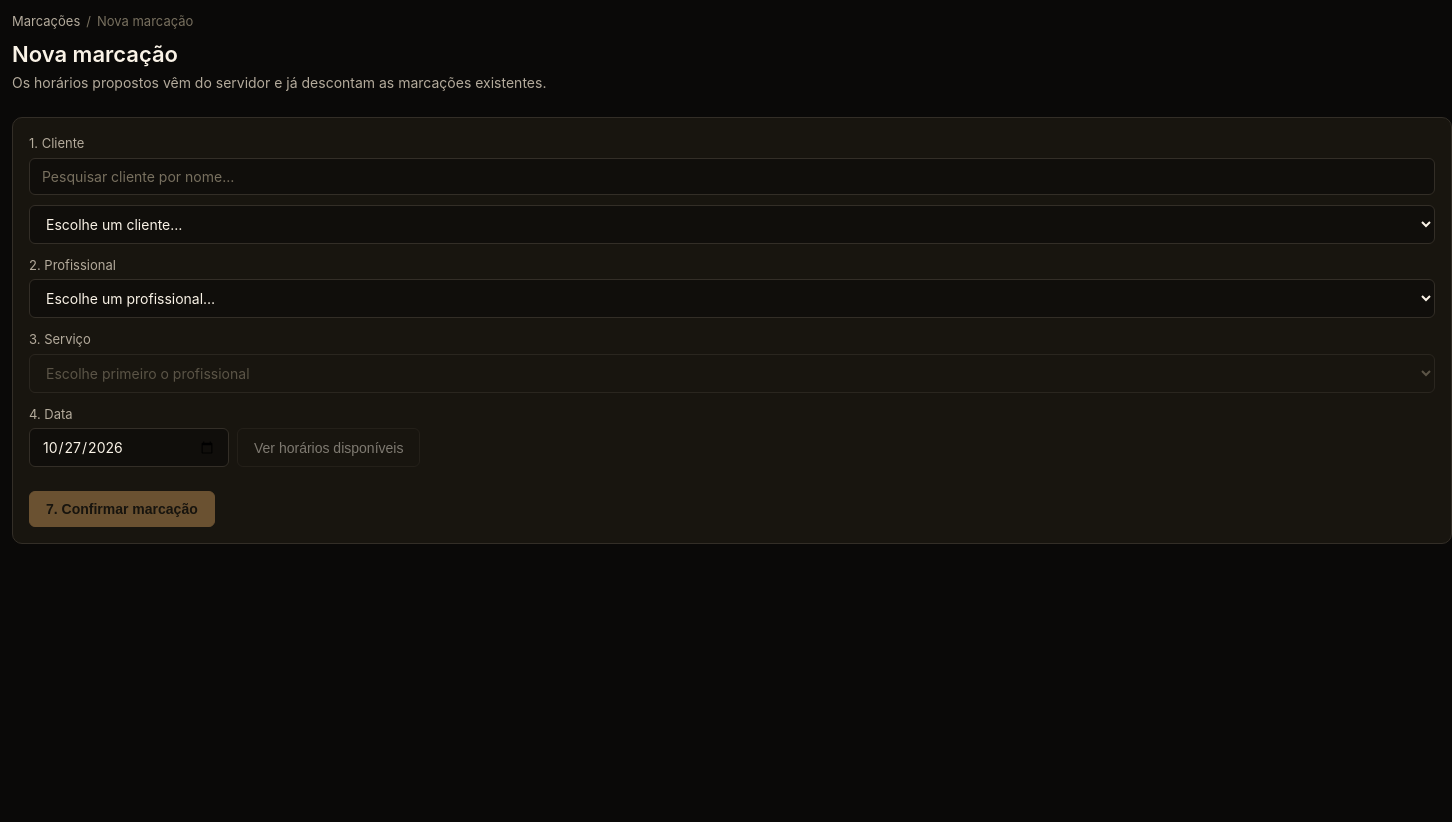
Test: New appointment flow › no bookable slots: explicit empty state
The width and height of the screenshot is (1452, 822).
Step 1. Select "João Silva" in the dropdown labelled "1. Cliente" → (732, 224), box top-left (29, 205), bottom-right (1435, 244)
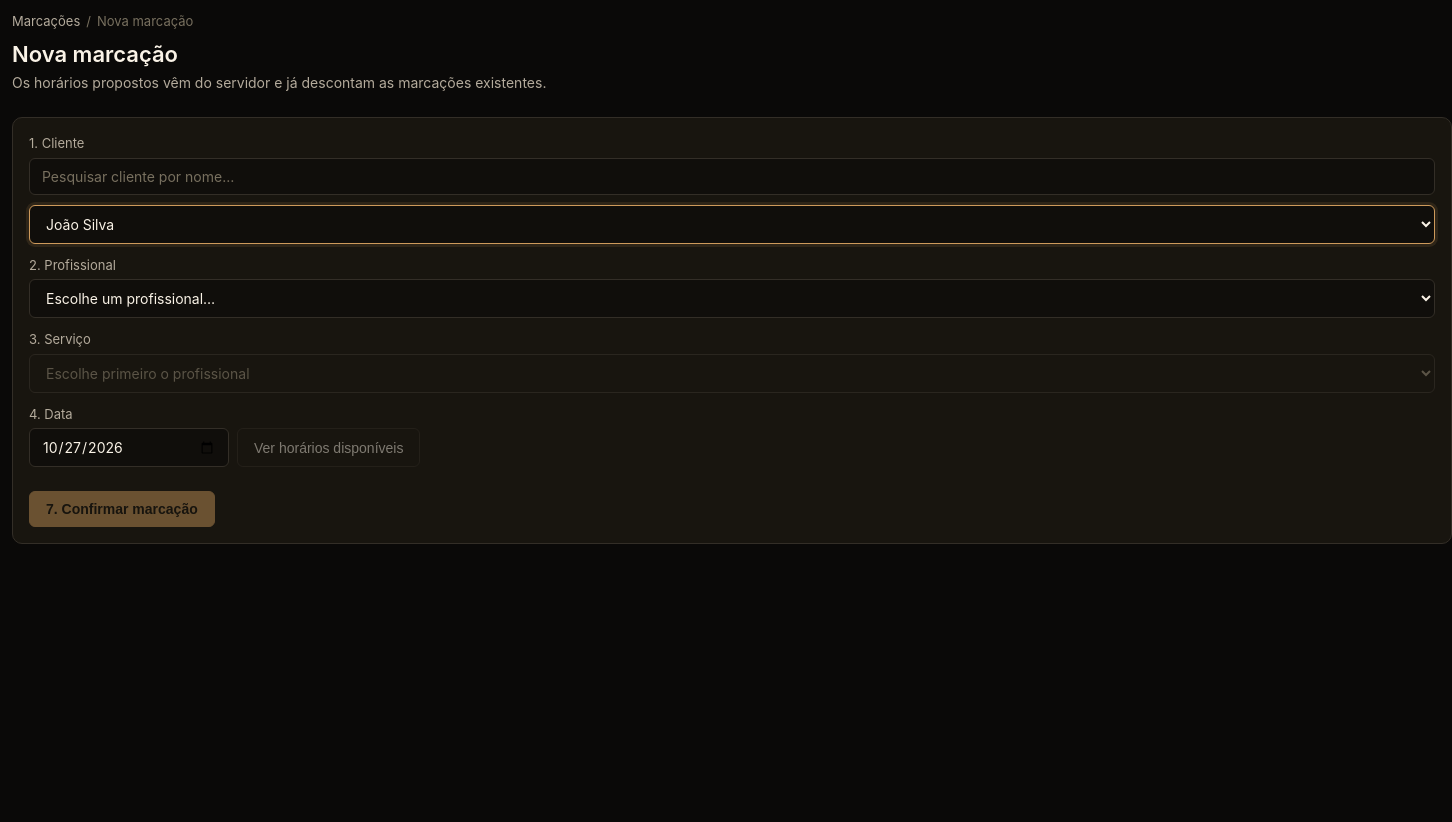
Step 2. Select "Ana Costa" in the dropdown labelled "2. Profissional" → (732, 299), box top-left (29, 279), bottom-right (1435, 318)
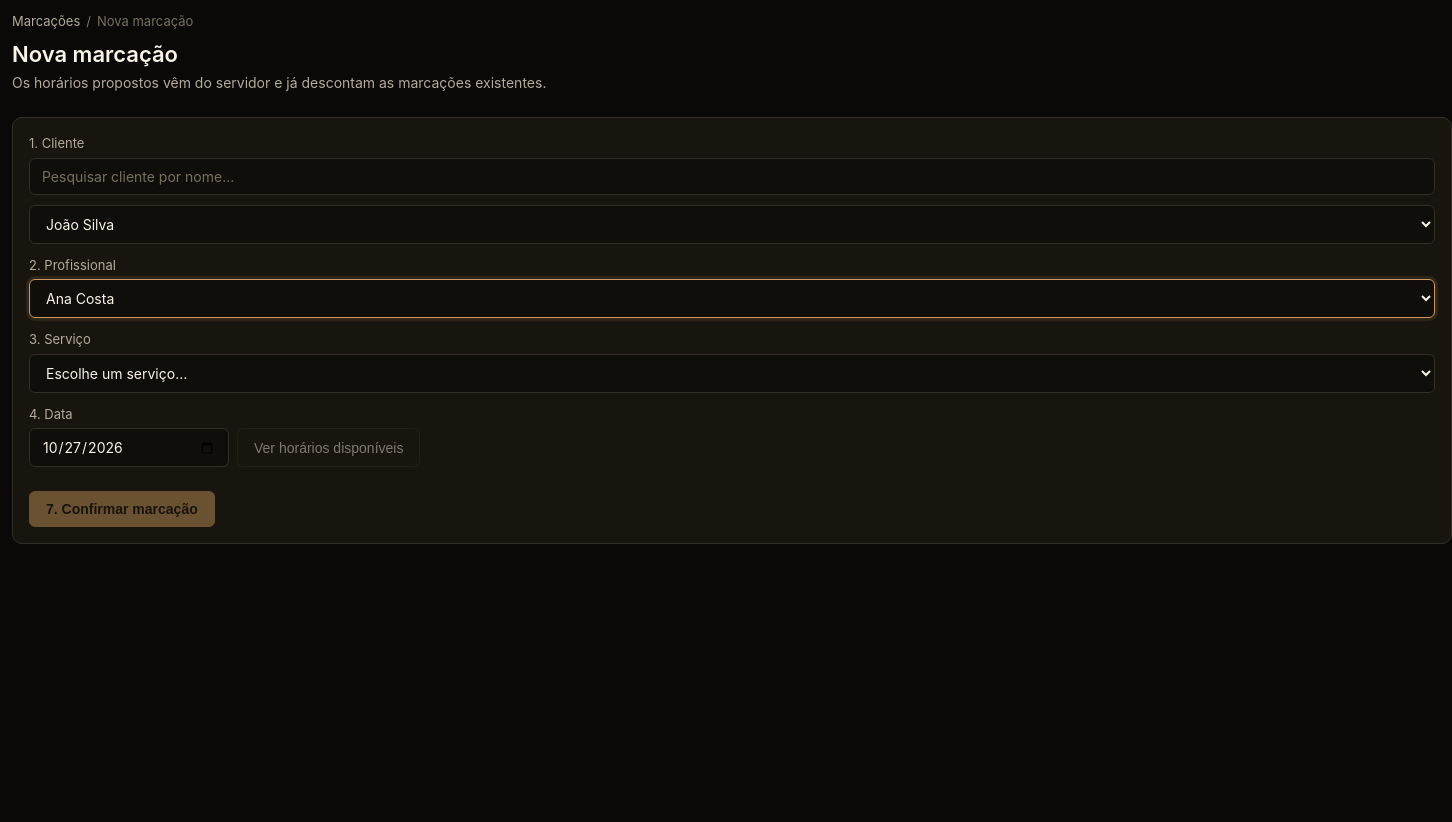
Step 3. Select "Personal Training — 60 min — 10 000,00 Kz" in the dropdown labelled "3. Serviço" → (732, 373), box top-left (29, 354), bottom-right (1435, 393)
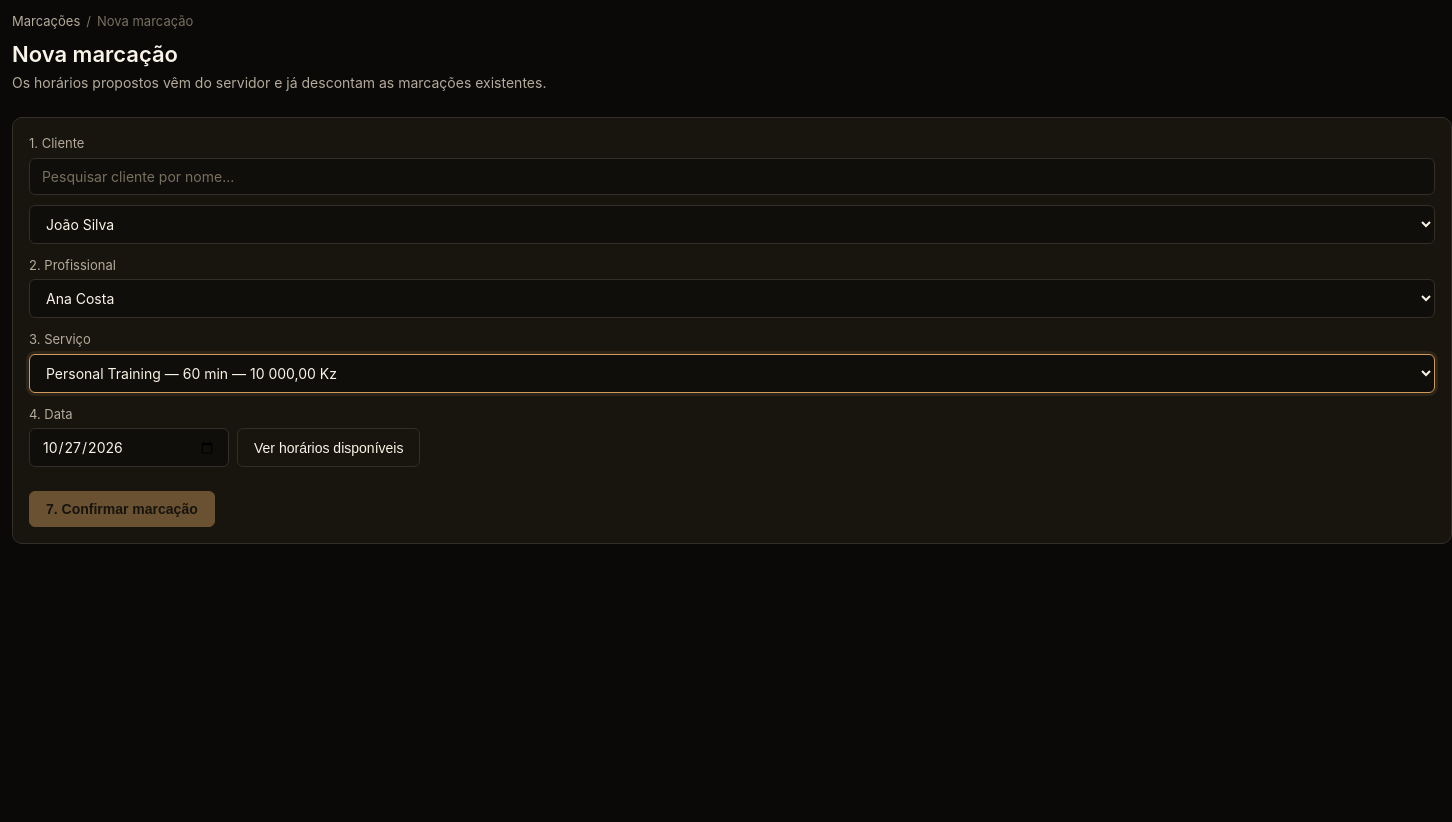
Step 4. Type "2026-10-05" into the date field labelled "4. Data" → (129, 448), box top-left (29, 428), bottom-right (229, 467)
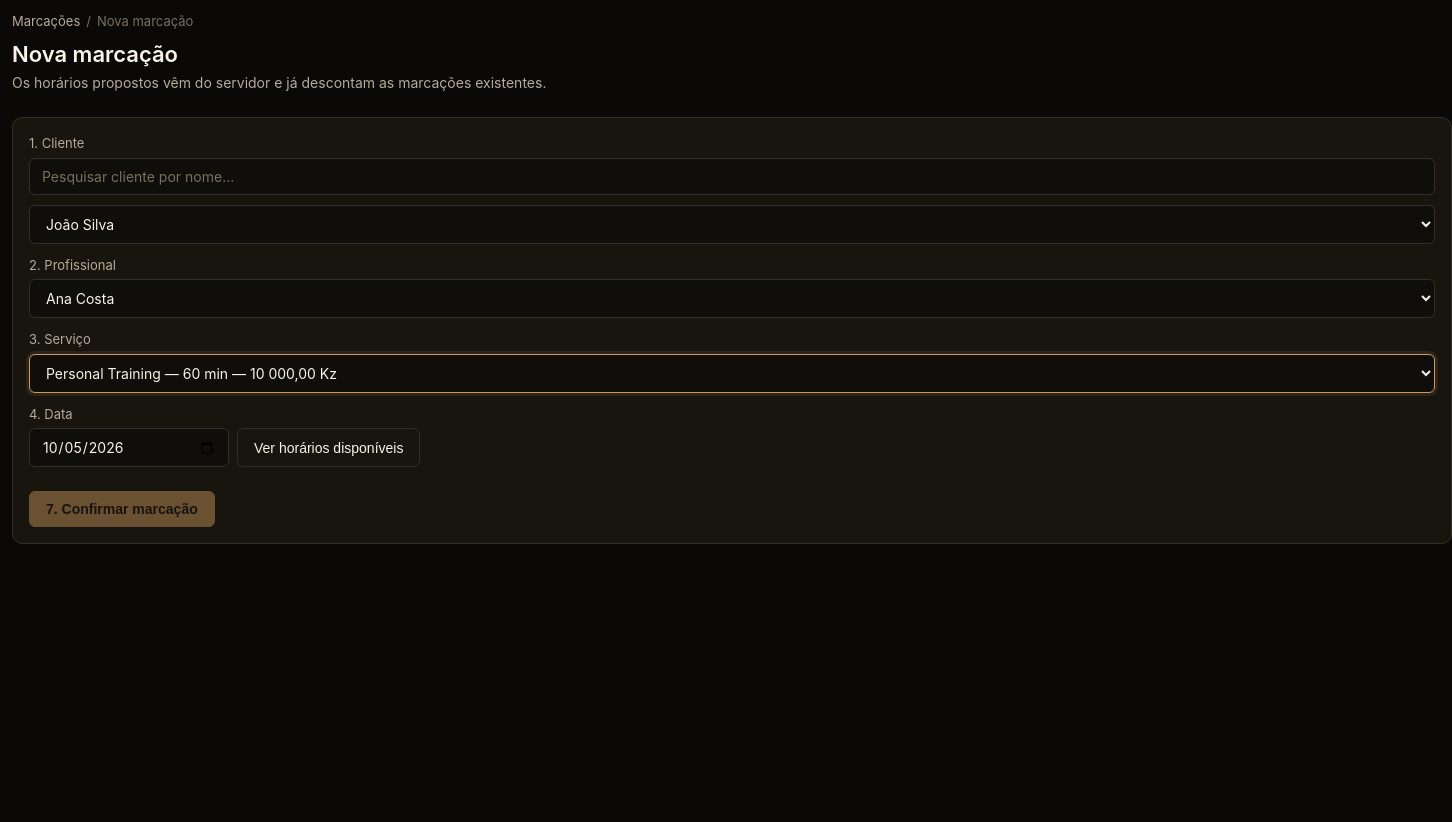
Step 5. Click the button "Ver horários disponíveis" → (329, 448), box top-left (237, 428), bottom-right (420, 467)
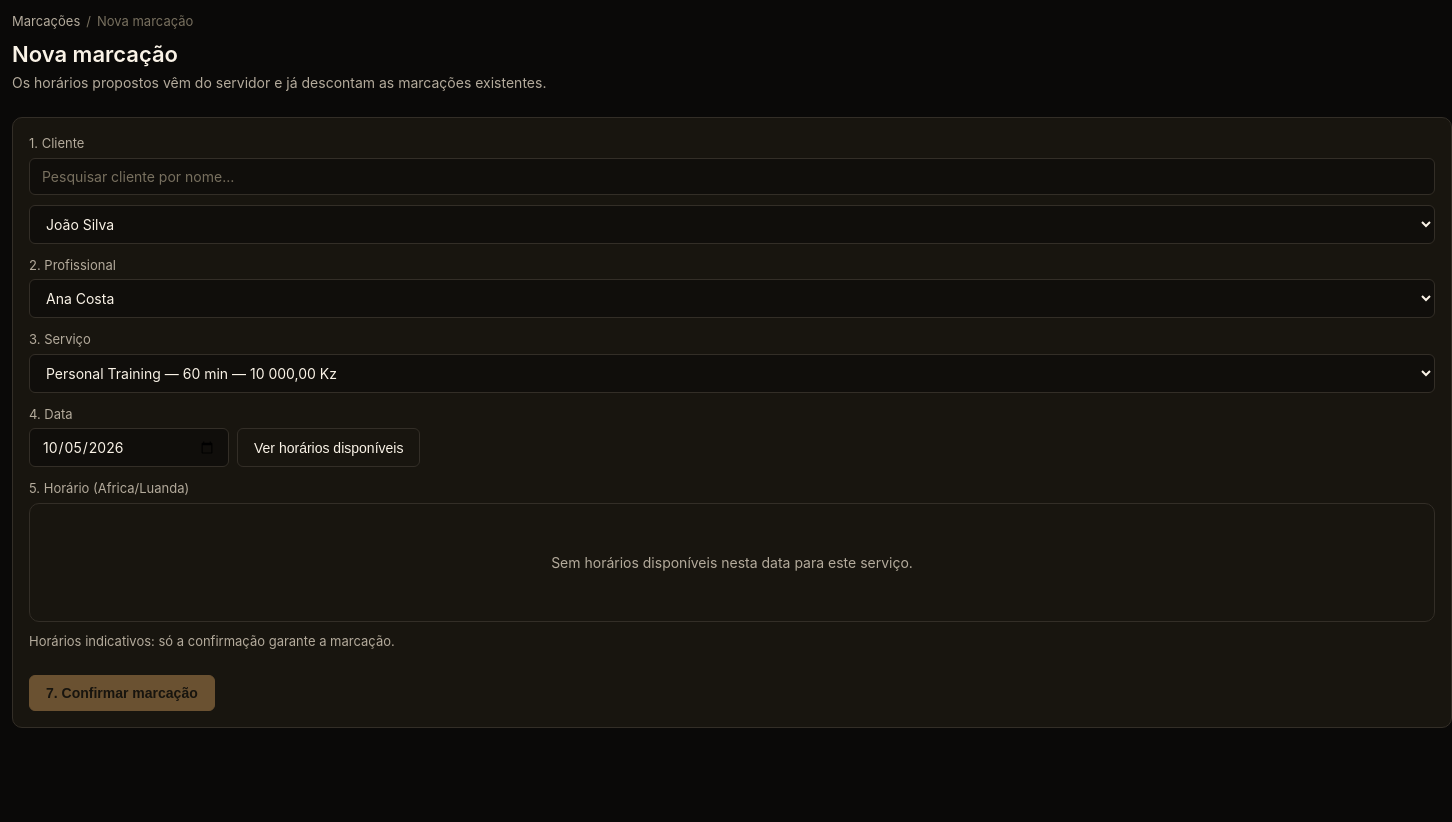
Expected: the text "Sem horários disponíveis nesta data para este serviço." is shown, top-left (29, 503), bottom-right (1435, 622)
